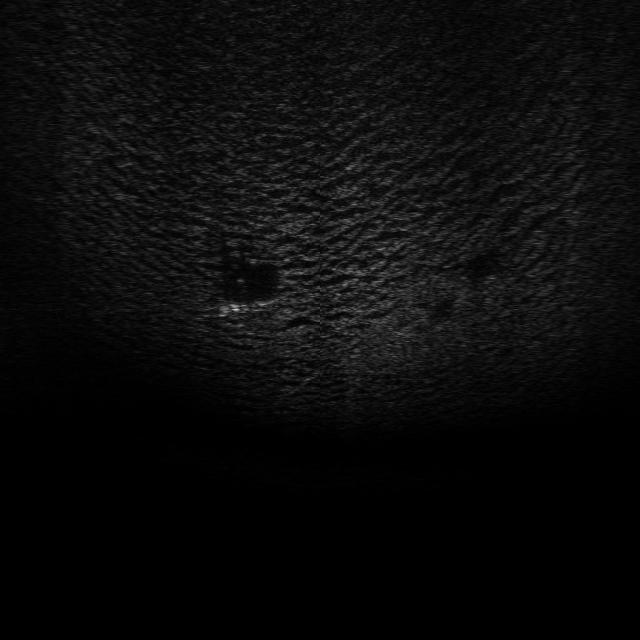plane: (212, 293, 282, 319)
